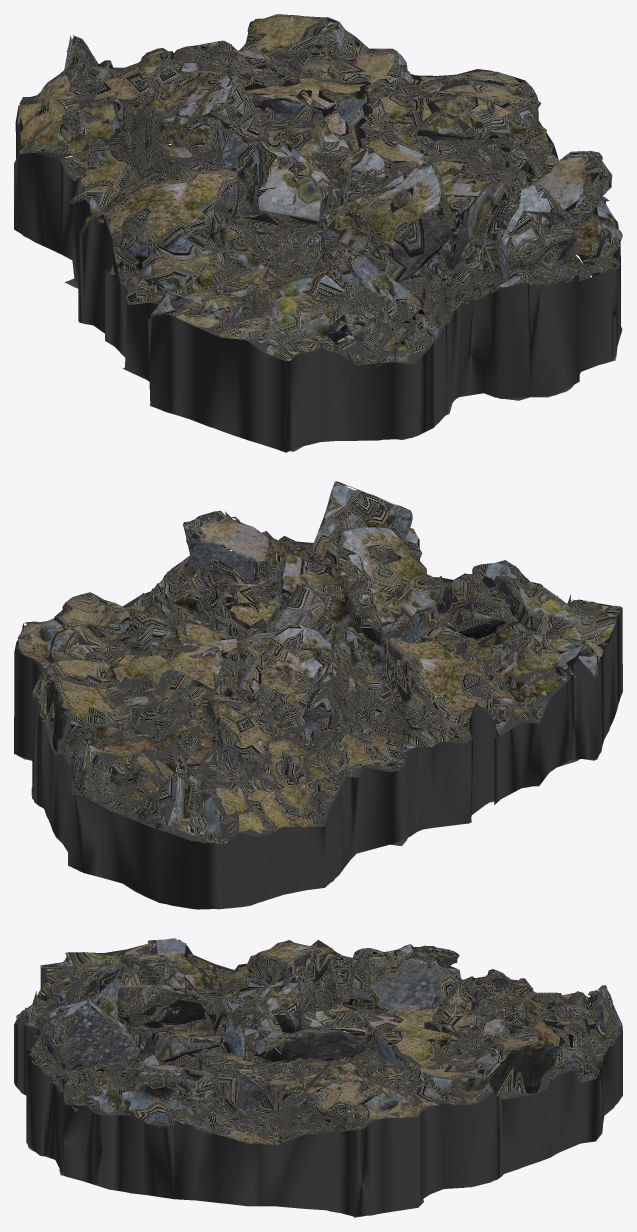
The picture shows the model from 3 angles, top to bottom: view 1: azimuth 30°, elevation 25°; view 2: azimuth 150°, elevation 25°; view 3: azimuth 270°, elevation 25°; orthographic projection. The views are drawn at different scales.
Visible parts, largest first — view 1: Object_3, Object_4, Object_5, Object_6, Object_2; view 2: Object_4, Object_3, Object_5, Object_6, Object_2; view 3: Object_3, Object_4, Object_6, Object_5, Object_2.
Boxes of the visible parts, left/top/right/bottom form: Object_3: left=14, top=64, right=620, bottom=452; Object_4: left=18, top=16, right=622, bottom=361; Object_5: left=17, top=35, right=498, bottom=366; Object_6: left=66, top=14, right=608, bottom=341; Object_2: left=23, top=144, right=622, bottom=451; Object_4: left=17, top=481, right=620, bottom=832; Object_3: left=14, top=538, right=622, bottom=909; Object_5: left=104, top=526, right=603, bottom=844; Object_6: left=37, top=481, right=422, bottom=843; Object_2: left=17, top=629, right=620, bottom=909; Object_3: left=14, top=939, right=622, bottom=1216; Object_4: left=37, top=939, right=573, bottom=1145; Object_6: left=24, top=985, right=622, bottom=1135; Object_5: left=16, top=938, right=609, bottom=1084; Object_2: left=15, top=1029, right=615, bottom=1217.
Bounding box in the file's own units: 9.61 × 3.41 × 12.37.
Materials: 2 (1 with a texture image).
